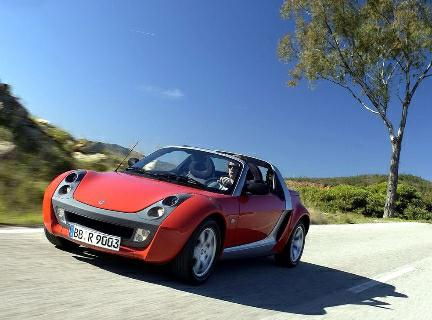smart-roadster: (38, 139, 312, 277)
